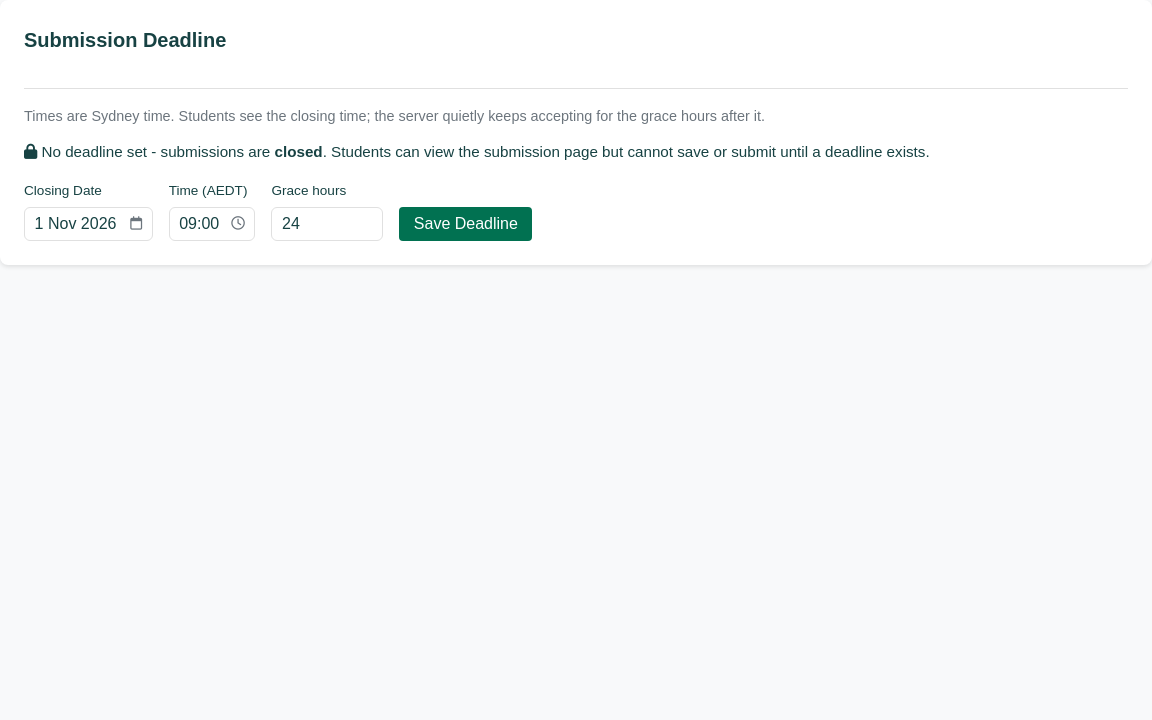
Test: setting a deadline › confirming saves the UTC instant with the grace hours
Submit the form, box [272,183,532,240]
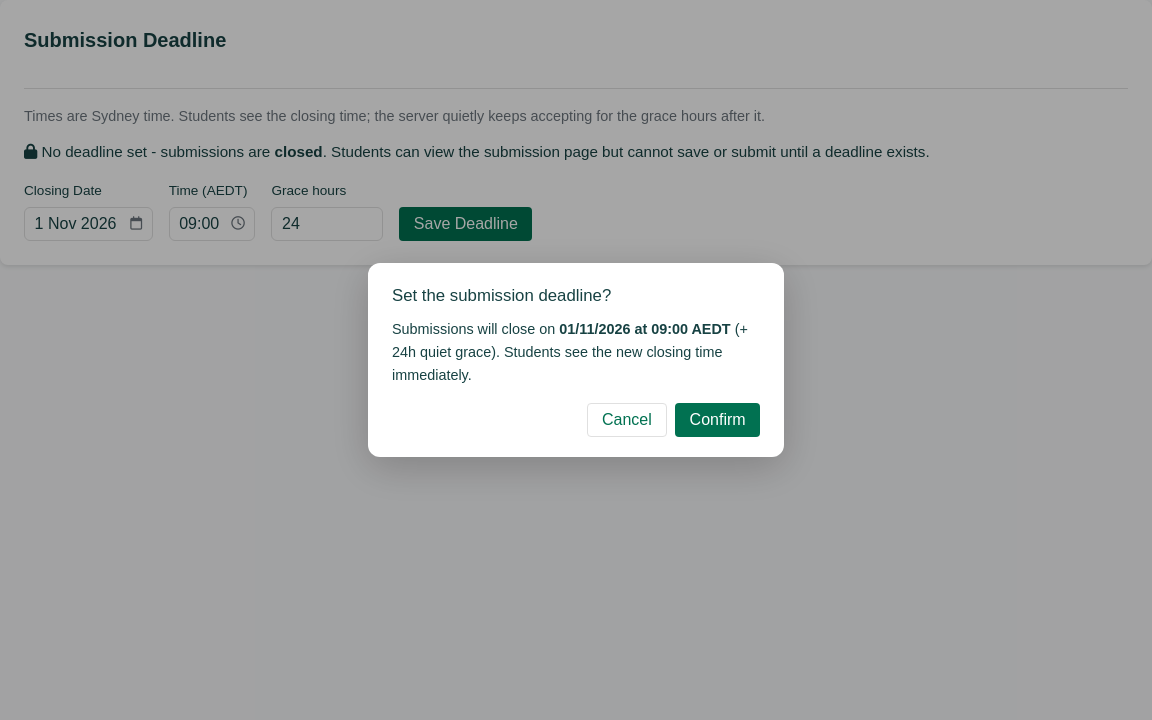
Click the button "Confirm" at [718, 420], box [675,403,760,437]
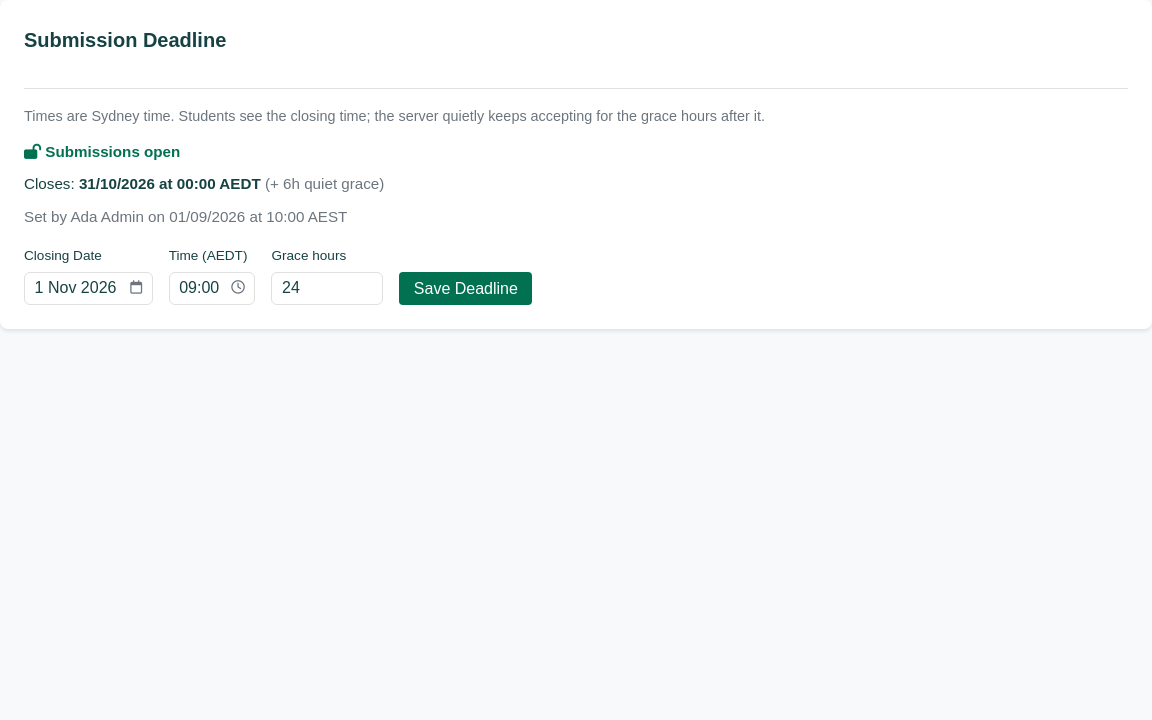
Now the text "Submissions open" is shown, box [24,143,180,160]
Now the text "Closes:" is shown, box [24,175,79,192]
